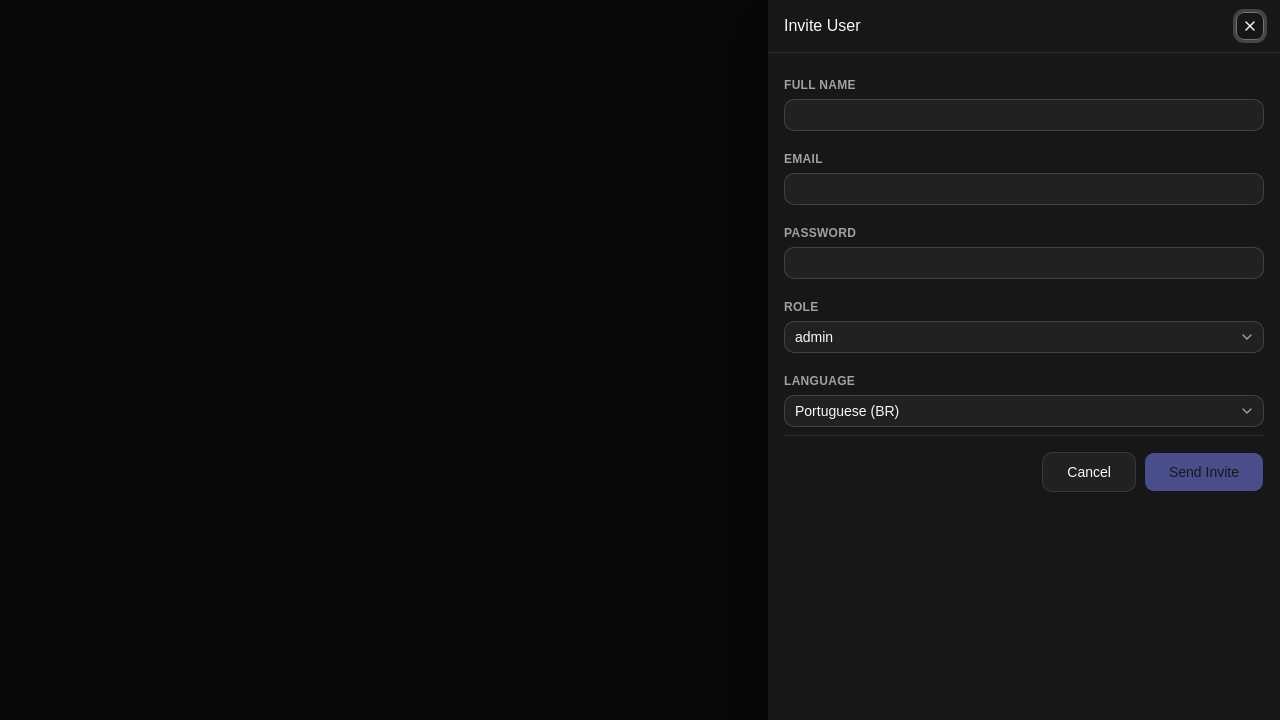
InviteDrawer › shows password min length hint when password < 8 chars
Type "short" into the password field labelled "Password" at coordinates (1024, 263), box [784,247,1264,279]
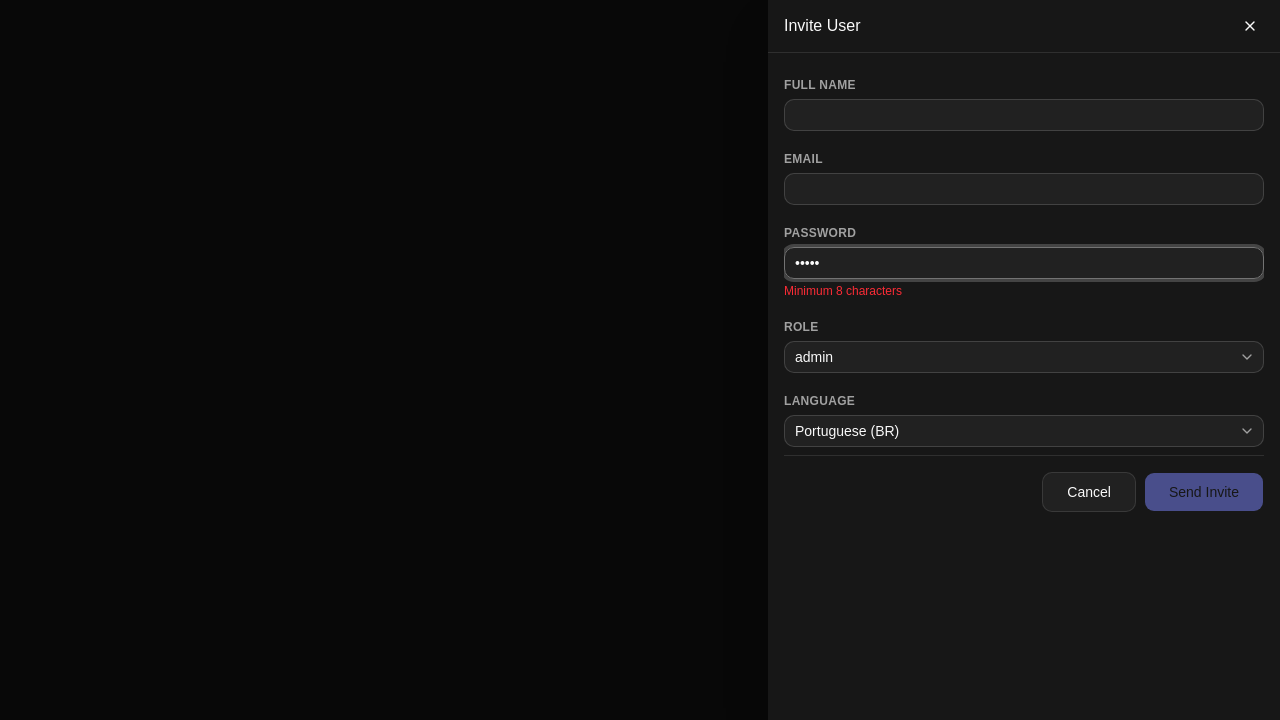
Check: the text "Minimum 8 characters" is shown, box [784,284,902,298]
